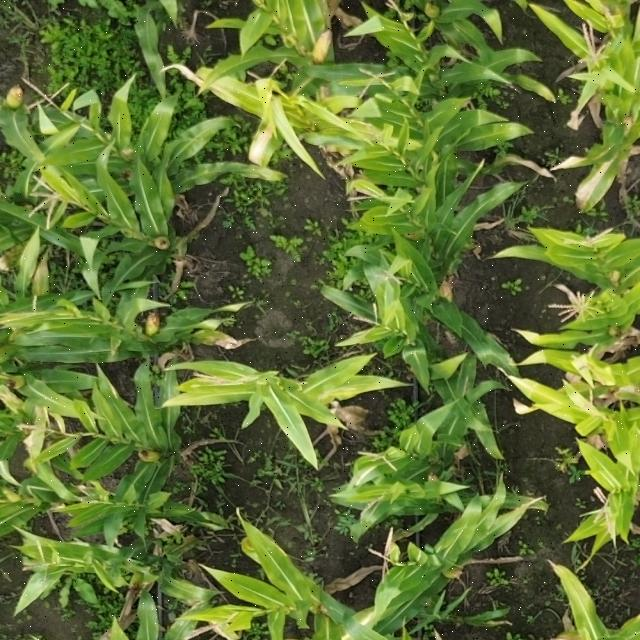northern-leaf-blight: (575, 142, 624, 220), (230, 112, 281, 172), (180, 327, 258, 365)
